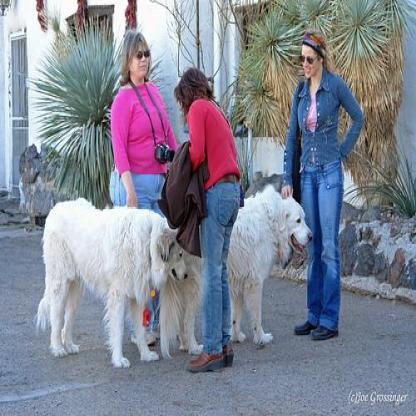Great_Pyrenees: (156, 182, 314, 360), (33, 196, 188, 368)
